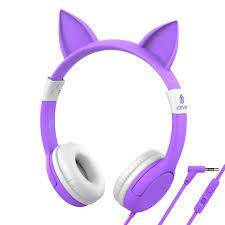headphone: (25, 7, 198, 217)
